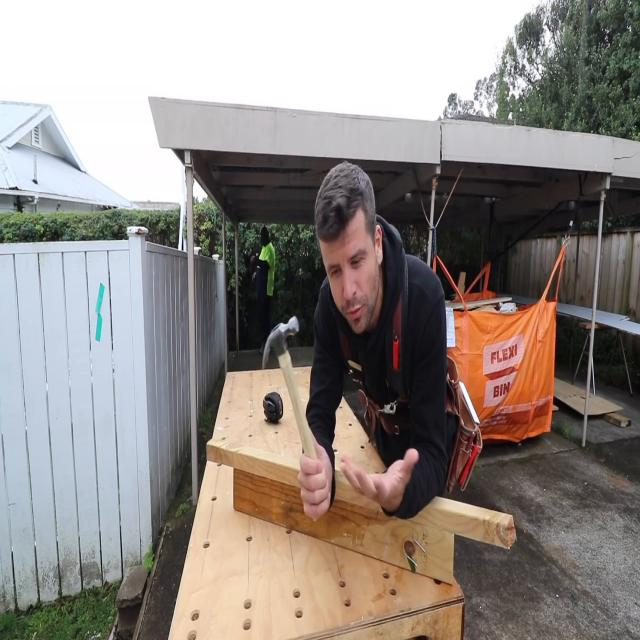hammer: (263, 317, 316, 459)
